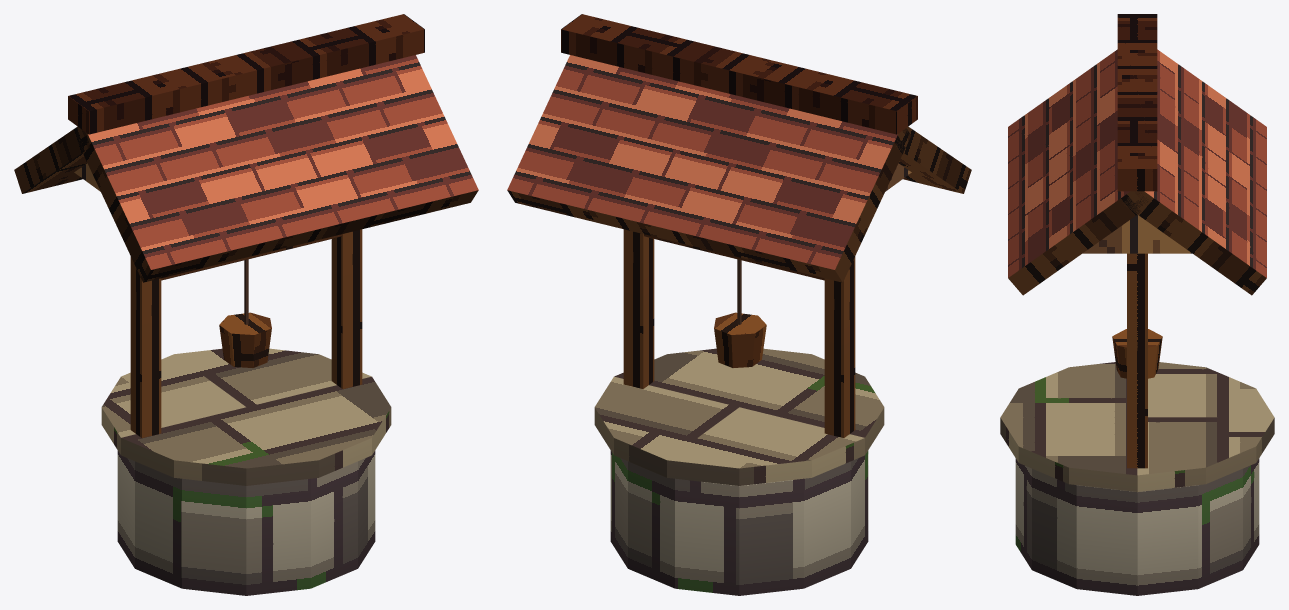
The model's file is well.glb.
3 views of the same model, side by side, from view 1: azimuth 30°, elevation 25°; view 2: azimuth 150°, elevation 25°; view 3: azimuth 270°, elevation 25° (orthographic). The views are drawn at different scales.
Visible parts, largest first — view 1: well; view 2: well; view 3: well.
Part boxes in pixels (<box>): well: <box>14,14,478,595</box>; well: <box>507,14,971,595</box>; well: <box>1000,14,1274,595</box>.
Size of the model in its own units: 2.41 by 3.28 by 1.8.
Materials: 4 (3 with a texture image).
